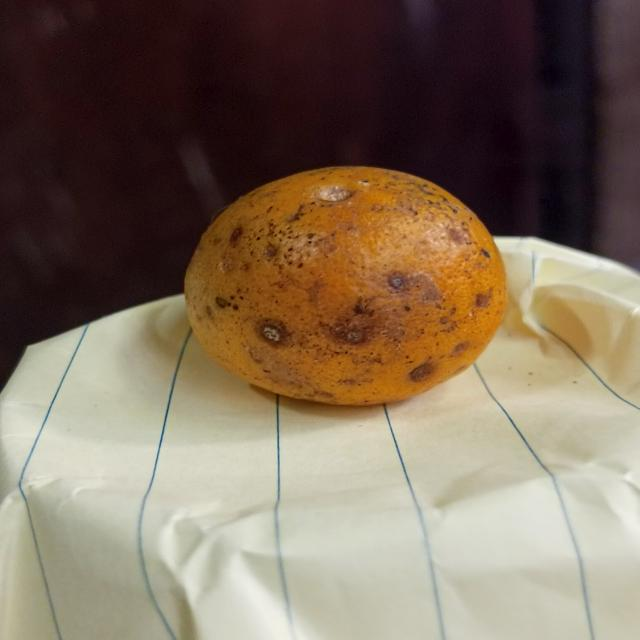black spot: (178, 164, 510, 410)
